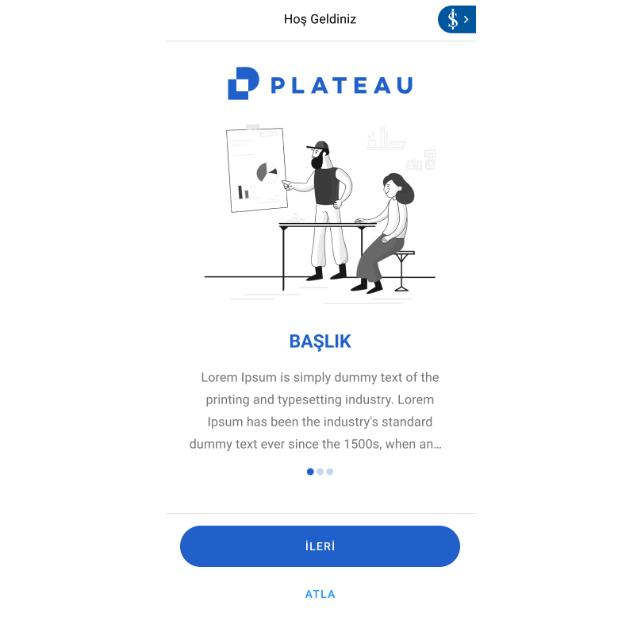QLabel: (279, 10, 357, 26), (300, 587, 336, 601)
VAppBar: (164, 0, 476, 42)
VBtn: (180, 526, 462, 568)
VCarousel: (164, 50, 476, 492)
VFooter: (164, 514, 476, 640)
VImg: (437, 5, 475, 32)
